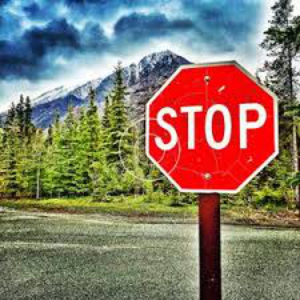STOP_SIGN: (145, 59, 278, 193)
